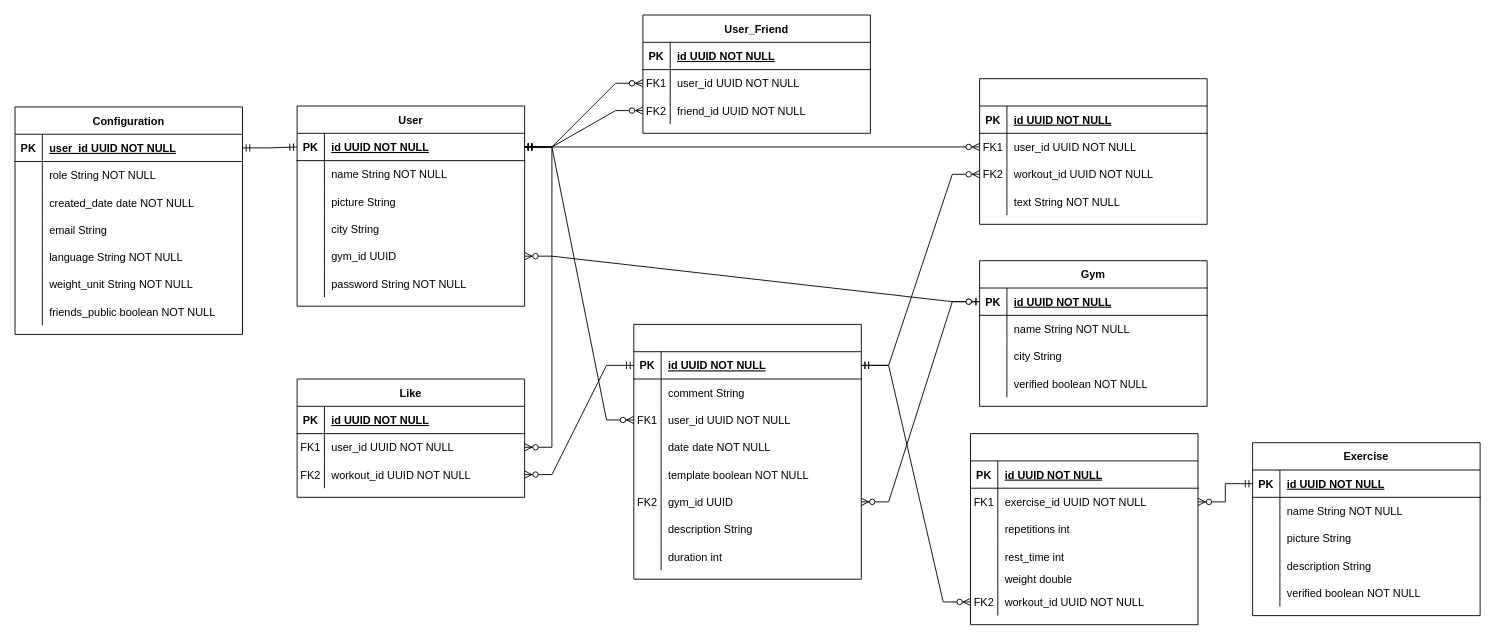
Image size: 1495x640. Some labels were removed from this diagram. The box of each missing label's shape, as (x1, y1, x2, y2) in pixels:
Comment: (979, 78, 1207, 224)
Set: (970, 433, 1198, 625)
Workout: (633, 324, 861, 579)
